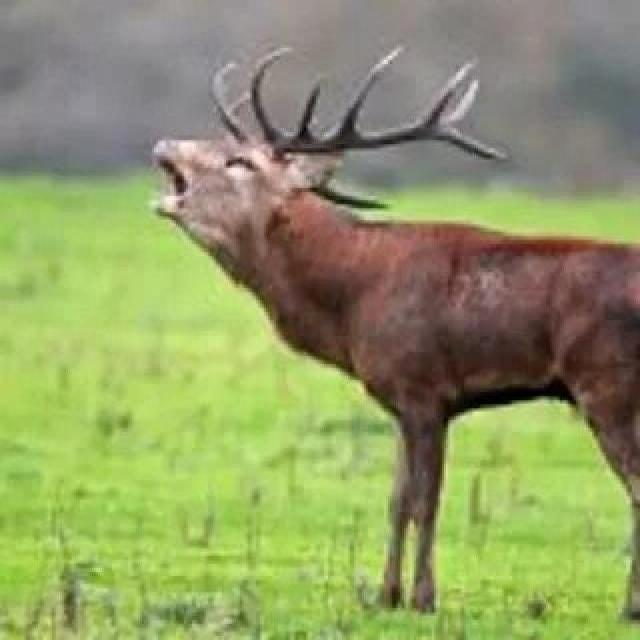deer: (126, 81, 640, 506)
